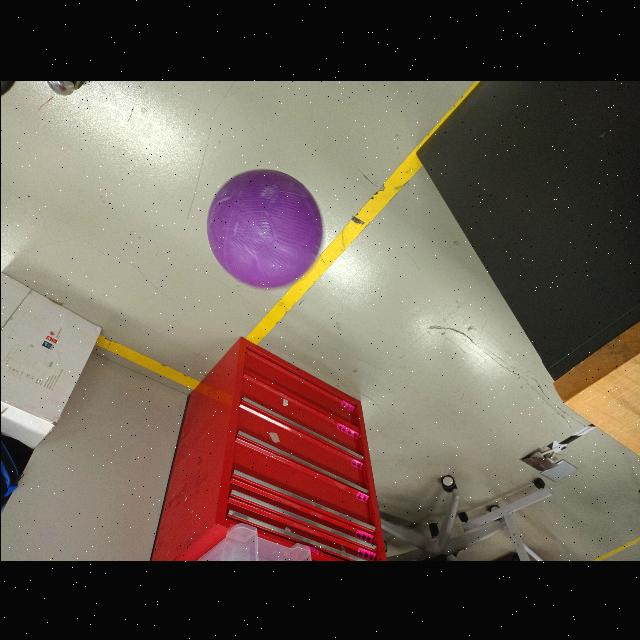P: (205, 168, 322, 288)
